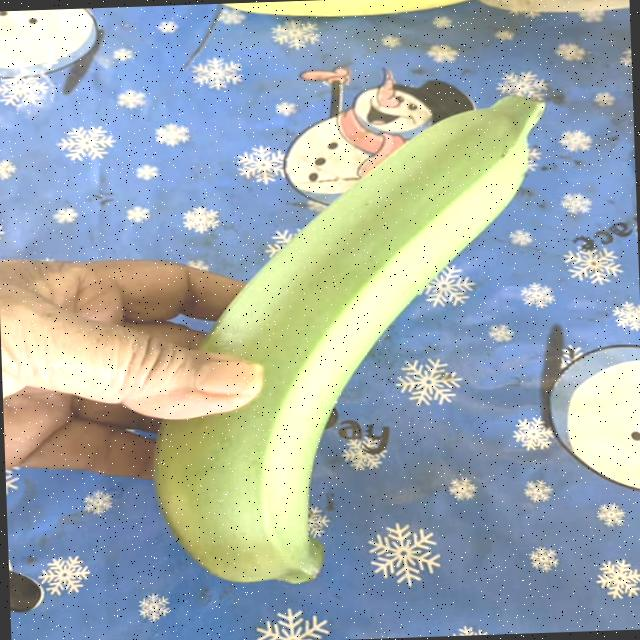Unripe: (106, 71, 585, 604)
